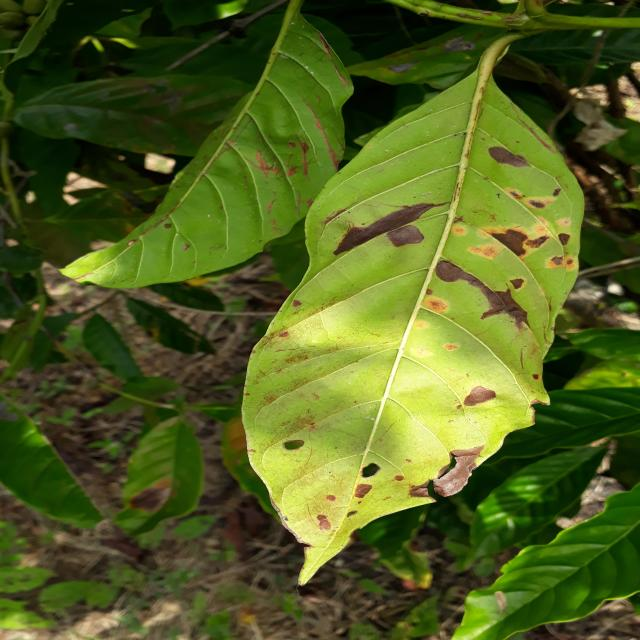Enfermedad-Roya: (233, 69, 580, 586)
